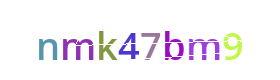4: (93, 0, 173, 80)
7: (99, 0, 179, 80)
9: (193, 0, 273, 80)
B: (106, 0, 186, 80)
K: (90, 0, 170, 80)
M: (65, 0, 145, 80), (108, 0, 188, 80)
N: (7, 0, 87, 80)
